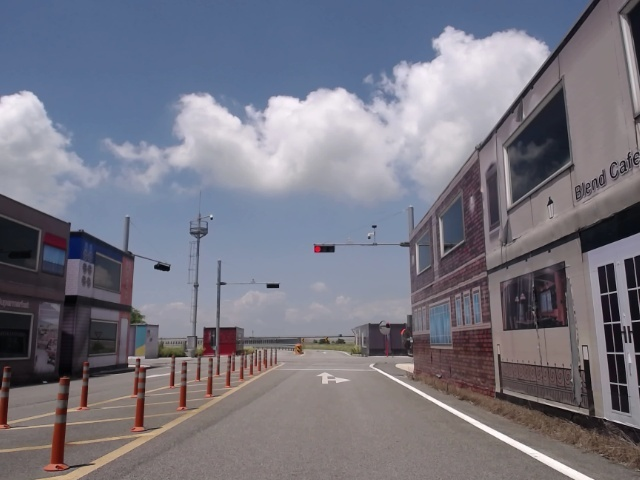red_3: (313, 244, 335, 252)
